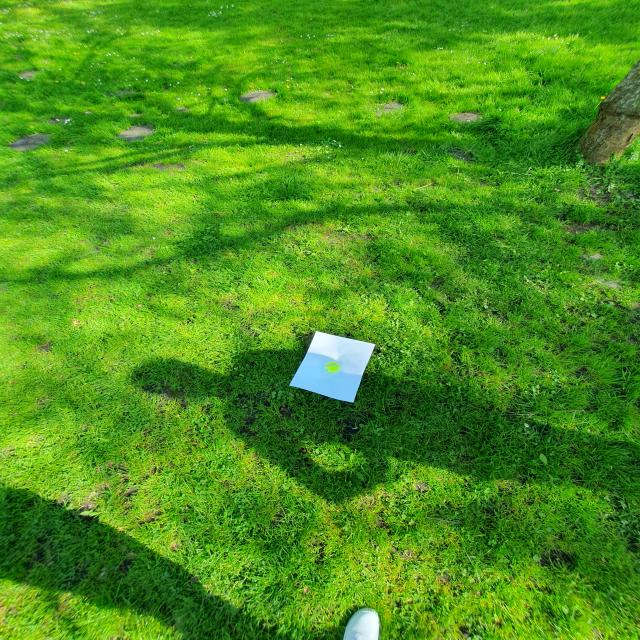green: (326, 362, 340, 372)
